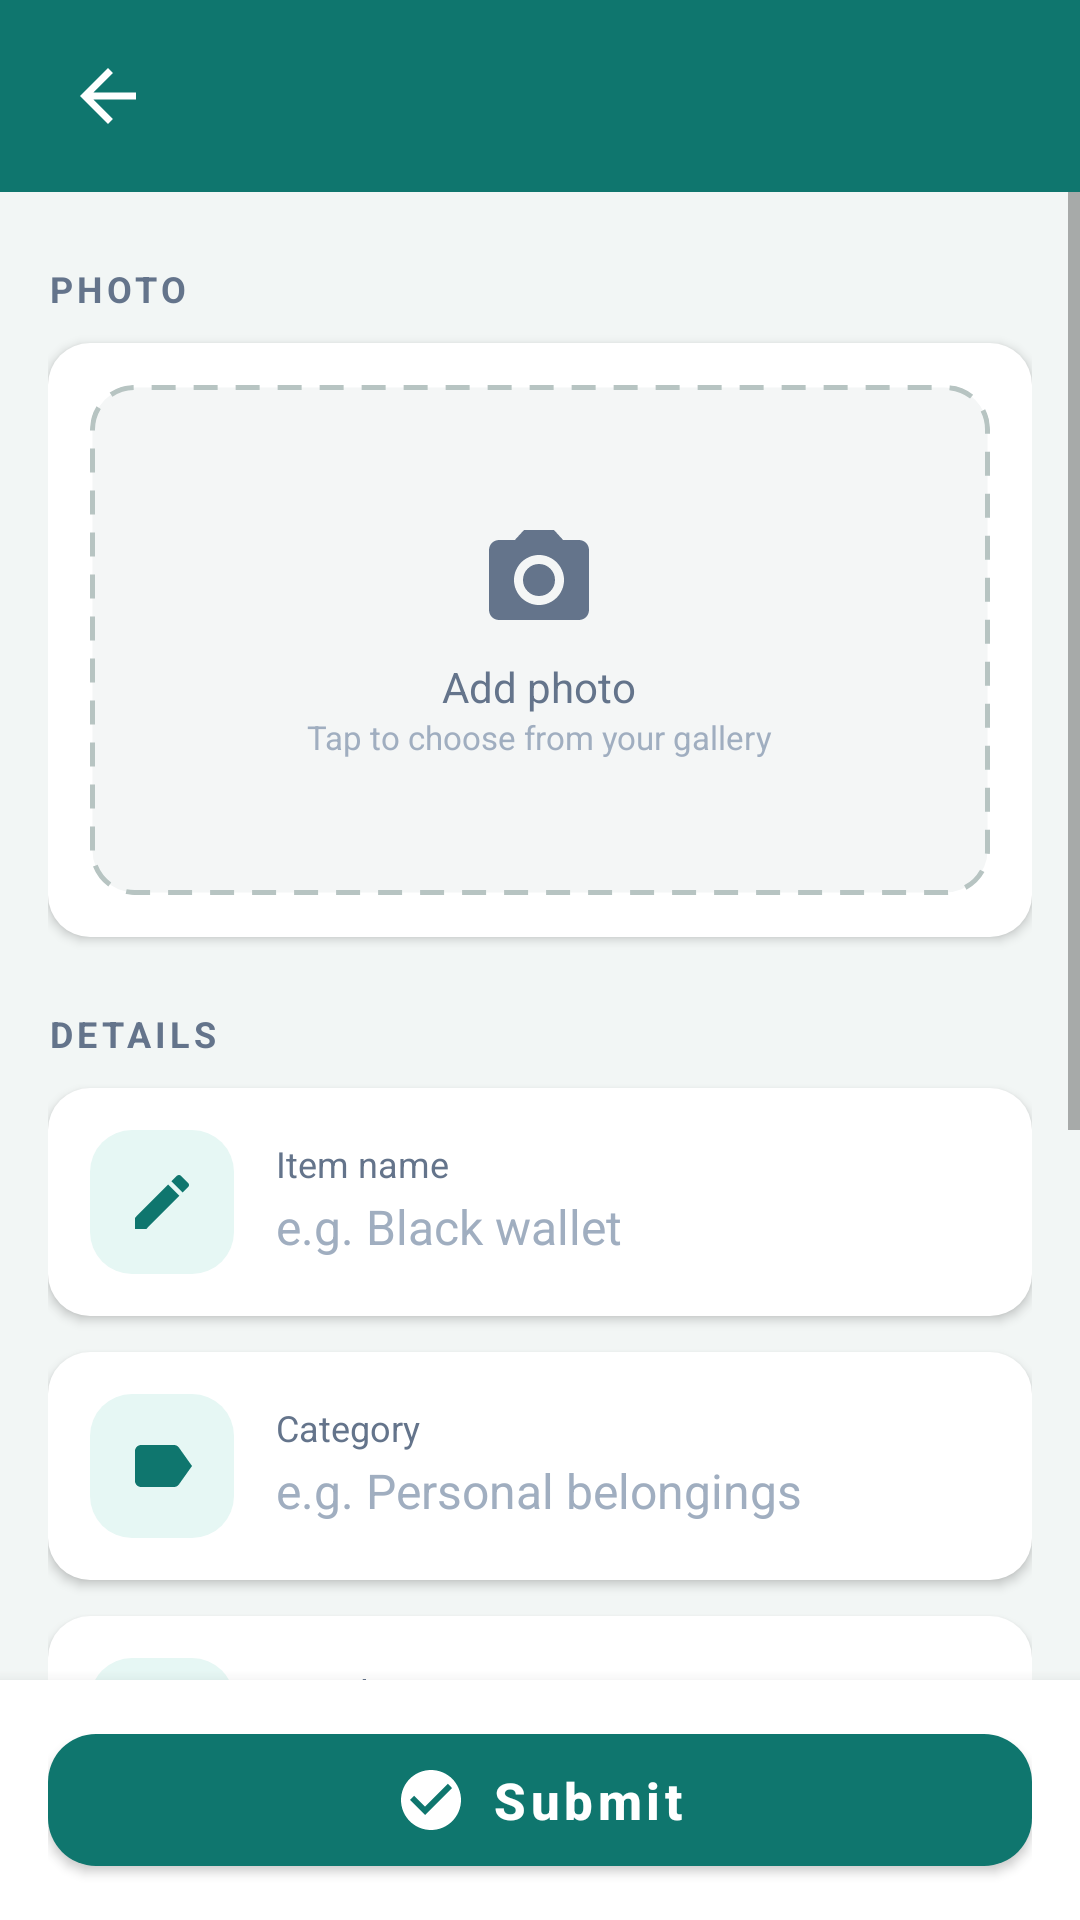

Screen size 1080×1920. Icon name, then its box in pixels as (x1, y1, x2, y2):
Back: (80, 68, 136, 124)
camera: (489, 530, 589, 620)
edit: (90, 1130, 234, 1274)
tag: (90, 1394, 234, 1538)
